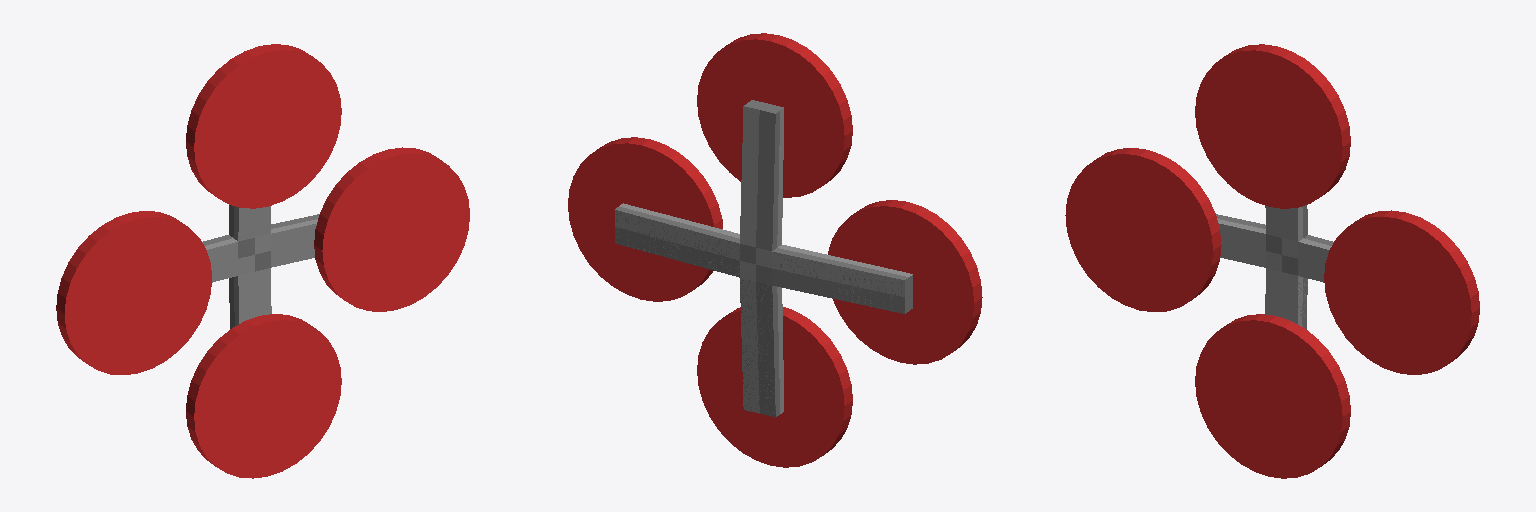
3 views of the same model, side by side, from view 1: azimuth 30°, elevation 25°; view 2: azimuth 150°, elevation 25°; view 3: azimuth 330°, elevation 25° (orthographic).
Parts seen in each view (by area): view 1: Cube_Cube.002; view 2: Cube_Cube.002; view 3: Cube_Cube.002.
Boxes of the visible parts, x1,y1,x2,y2 form: Cube_Cube.002: [56, 44, 469, 478]; Cube_Cube.002: [568, 33, 982, 467]; Cube_Cube.002: [1065, 44, 1479, 478].
Bounding box in the file's own units: 0.9438 × 0.9429 × 0.0932.
Materials: 1 (1 with a texture image).